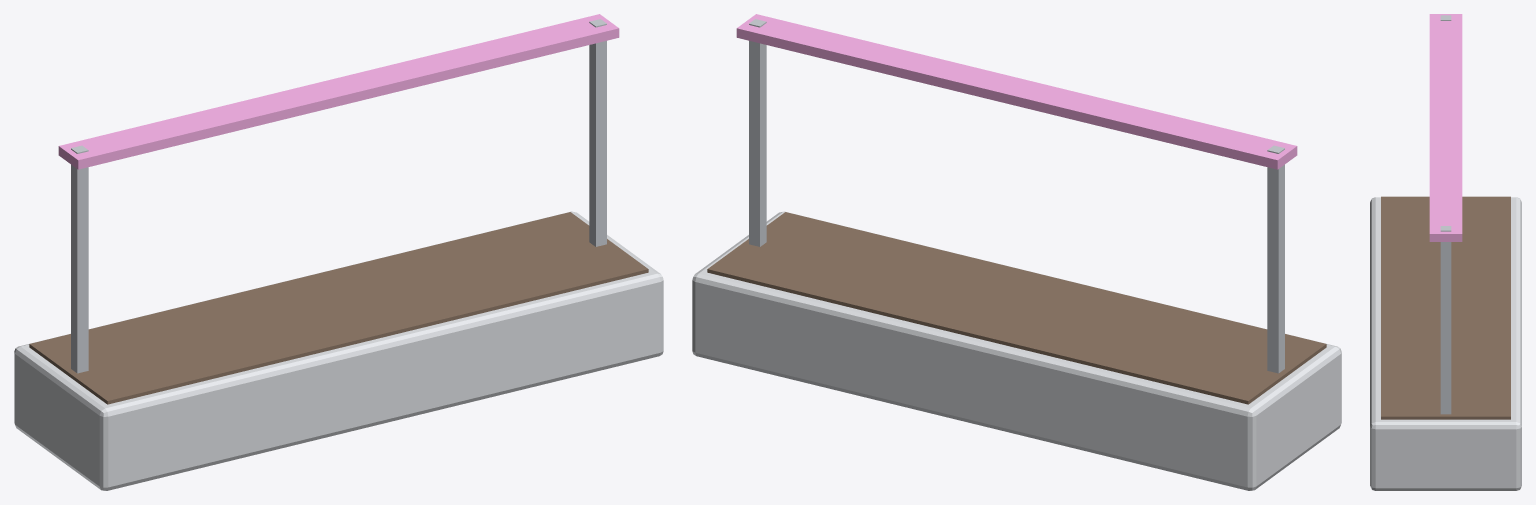
Rendered from bed__bed.fbx.
3 views of the same model, side by side, from view 1: azimuth 30°, elevation 25°; view 2: azimuth 150°, elevation 25°; view 3: azimuth 270°, elevation 25° (orthographic). The views are drawn at different scales.
Parts seen in each view (by area): view 1: bed__bed; view 2: bed__bed; view 3: bed__bed.
Part boxes in pixels (bbox=[...]): bed__bed: bbox=[14, 14, 663, 490]; bed__bed: bbox=[692, 14, 1341, 490]; bed__bed: bbox=[1370, 14, 1521, 490].
Size of the model in its own units: 5 by 2.6 by 1.4.
